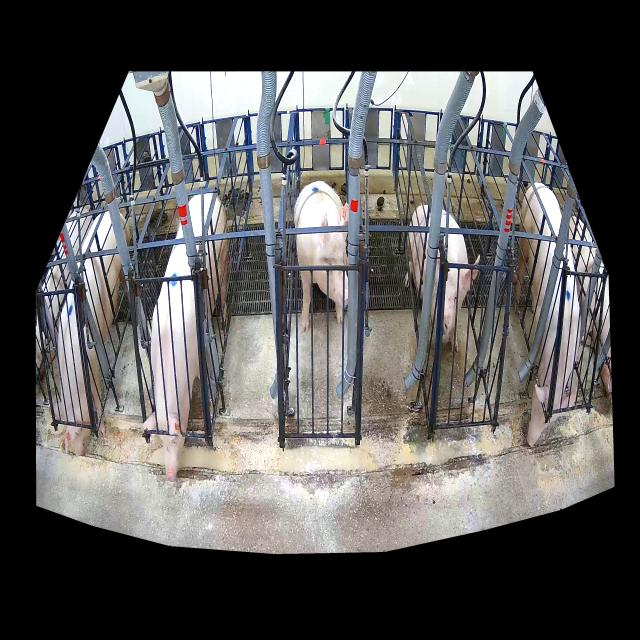pig: (143, 193, 228, 481), (52, 211, 130, 456), (515, 183, 581, 446), (405, 205, 480, 353), (294, 180, 349, 332)
